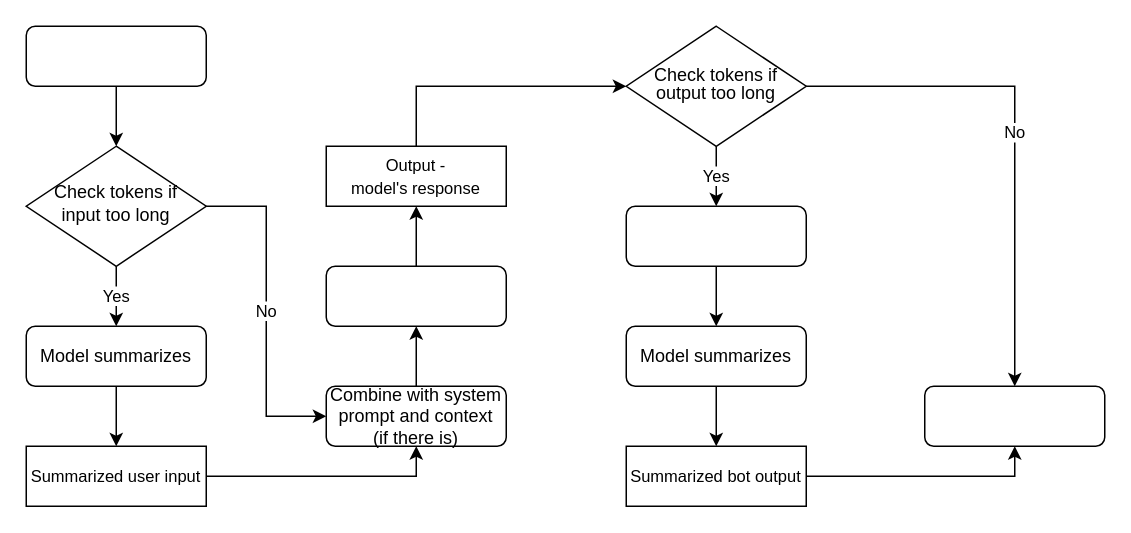
The diagram is 1131 pixels wide and 533 high, and some of its shapes have lost their labels. The centre of each missing label's shape, as x and y in pixels:
"Model responds" belongs at pixel 415 295.
"Save model's response to database" belongs at pixel 715 235.
"Save to database and show to user" belongs at pixel 1014 415.
"User Input" belongs at pixel 115 55.
